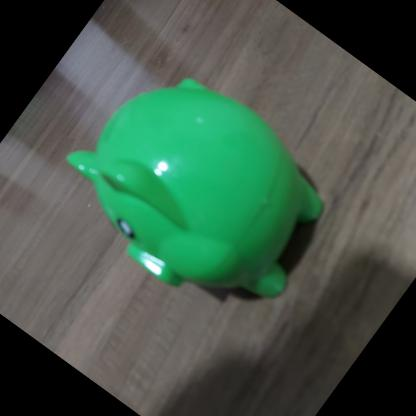plastic: (29, 31, 362, 348)
